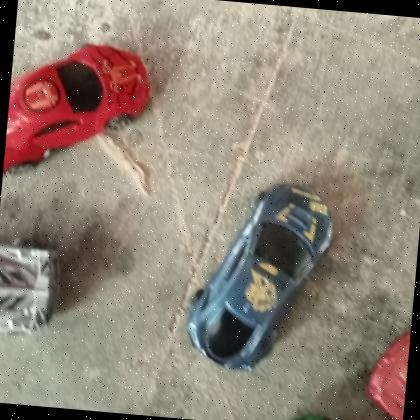Car: (179, 172, 340, 378)
